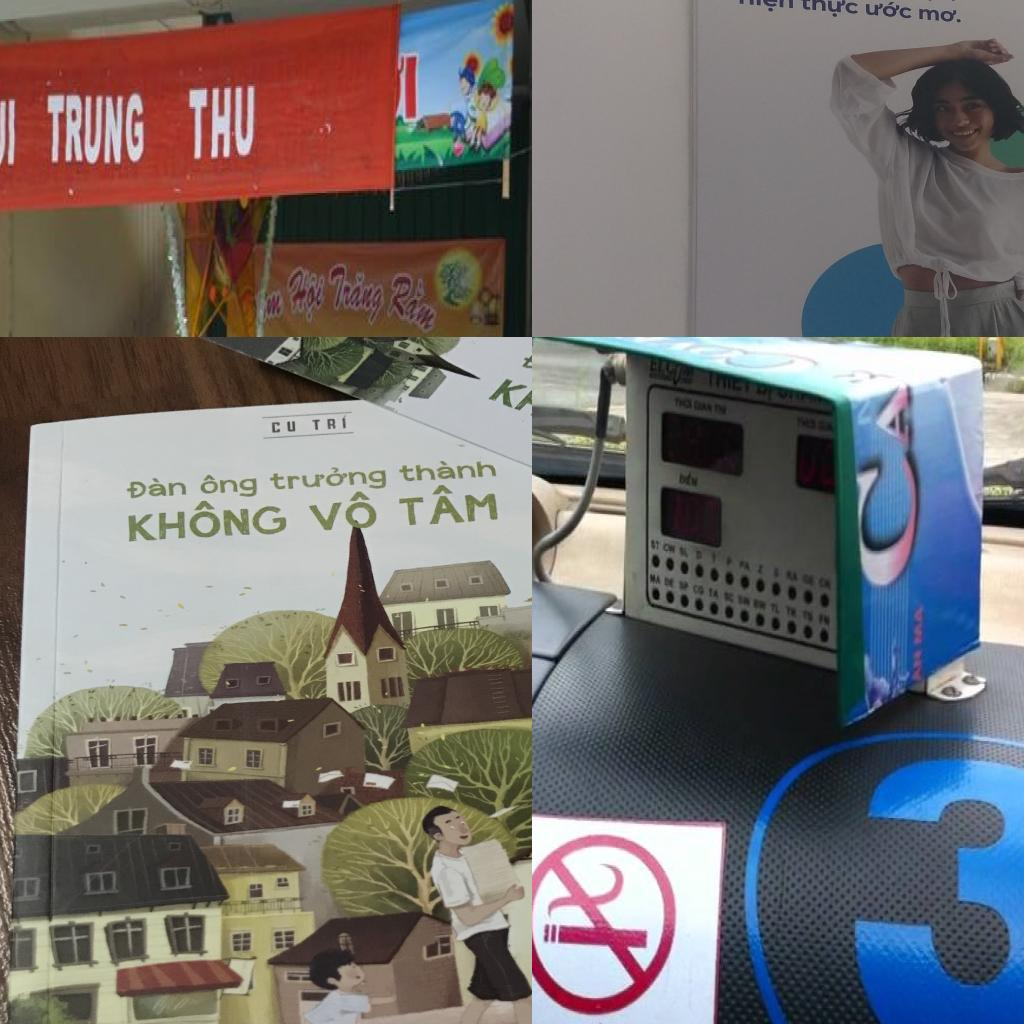text: (846, 751, 1024, 1024), (850, 384, 927, 588), (42, 80, 152, 174), (124, 498, 291, 546), (184, 75, 264, 168), (396, 479, 506, 528), (328, 258, 391, 336), (482, 366, 532, 456), (267, 462, 389, 492), (304, 490, 383, 534), (397, 455, 498, 484), (286, 262, 328, 328), (829, 367, 912, 397), (0, 80, 23, 173), (196, 469, 258, 498), (122, 473, 188, 499), (800, 0, 860, 20), (864, 0, 913, 20), (308, 412, 354, 431), (736, 0, 795, 14), (269, 416, 302, 436), (518, 343, 532, 388), (648, 357, 676, 377), (912, 601, 924, 647), (911, 647, 924, 685), (707, 584, 721, 601), (662, 541, 678, 555), (649, 572, 663, 587), (696, 548, 704, 563), (710, 551, 718, 564), (691, 477, 699, 488)
